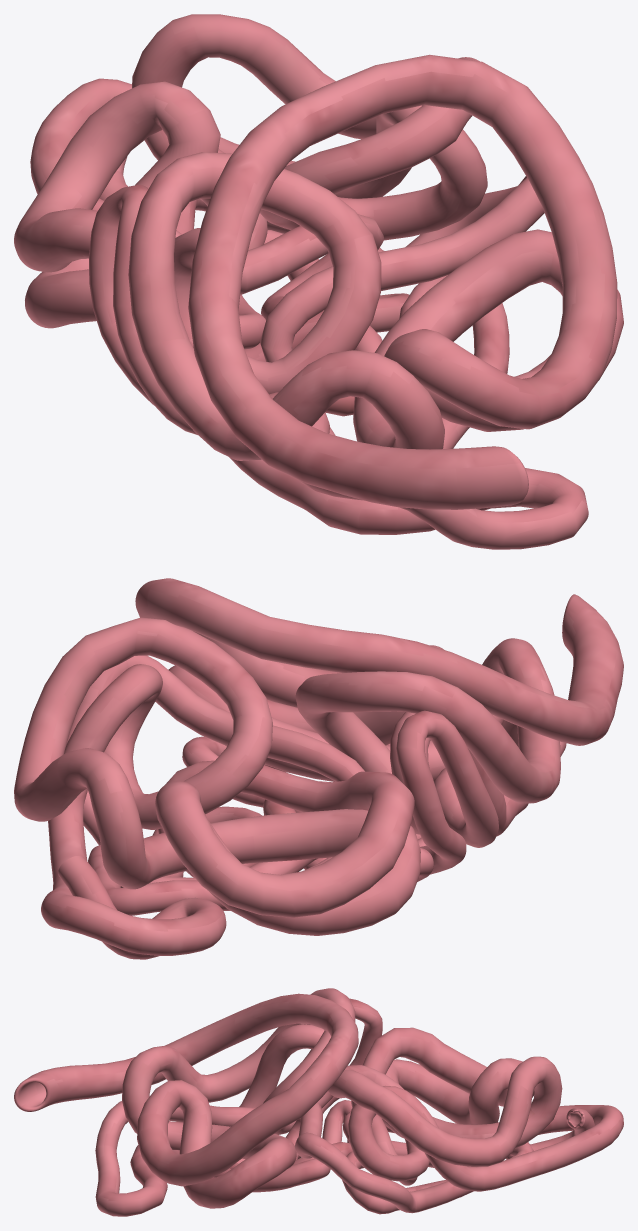
Rendered from Small_Intestine.glb.
The picture shows the model from 3 angles, top to bottom: view 1: azimuth 30°, elevation 25°; view 2: azimuth 150°, elevation 25°; view 3: azimuth 270°, elevation 25°; orthographic projection. The views are drawn at different scales.
Parts seen in each view (by area): view 1: SmallIntestine; view 2: SmallIntestine; view 3: SmallIntestine.
Part boxes in pixels (x1,y1,x2,y2): SmallIntestine: (14, 14, 623, 549); SmallIntestine: (14, 578, 623, 959); SmallIntestine: (14, 988, 623, 1216).
Bounding box in the file's own units: 89.83 × 59.7 × 172.
Materials: 1 (1 with a texture image).
